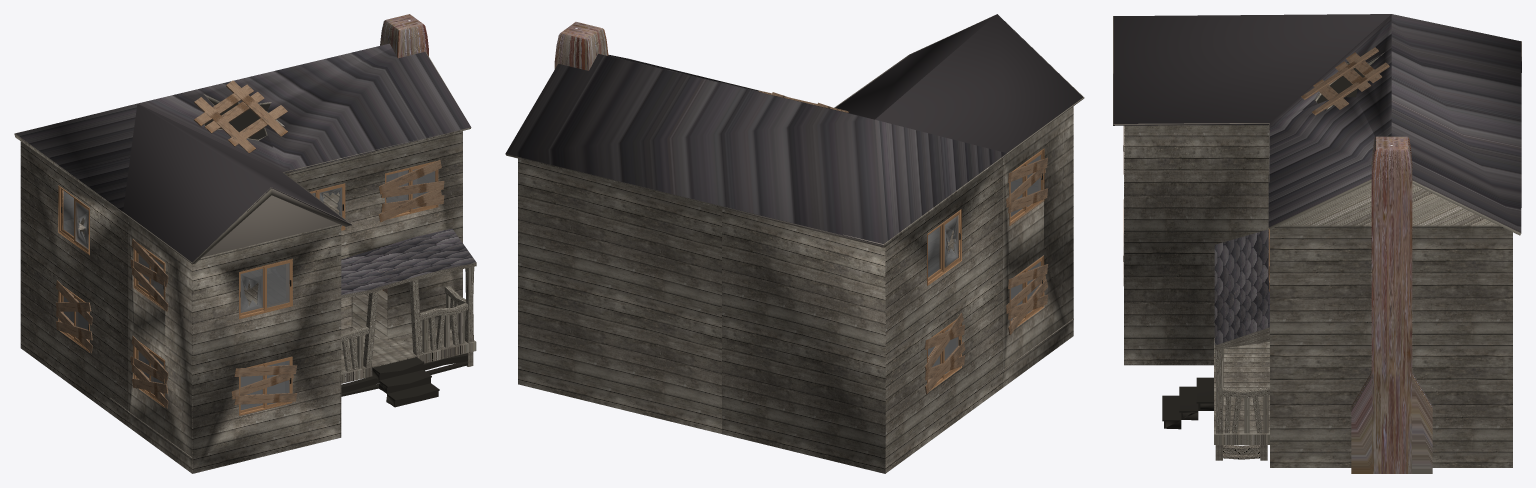
File: AbandonHouse.fbx
The picture shows the model from 3 angles, left to right: view 1: azimuth 30°, elevation 25°; view 2: azimuth 150°, elevation 25°; view 3: azimuth 270°, elevation 25°; orthographic projection. The views are drawn at different scales.
Visible parts, largest first — view 1: Plane.005; view 2: Plane.005; view 3: Plane.005.
Boxes of the visible parts, <box> form: Plane.005: <box>14,14,476,473</box>; Plane.005: <box>505,14,1084,473</box>; Plane.005: <box>1113,14,1521,473</box>.
Bounding box in the file's own units: 1887 × 1466 × 1681.
6 materials, 5 textured.
